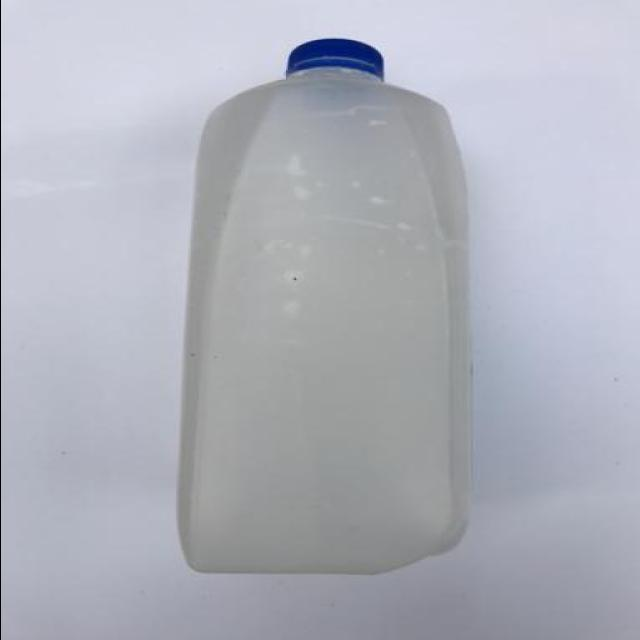HDPEM: (174, 38, 474, 582)
